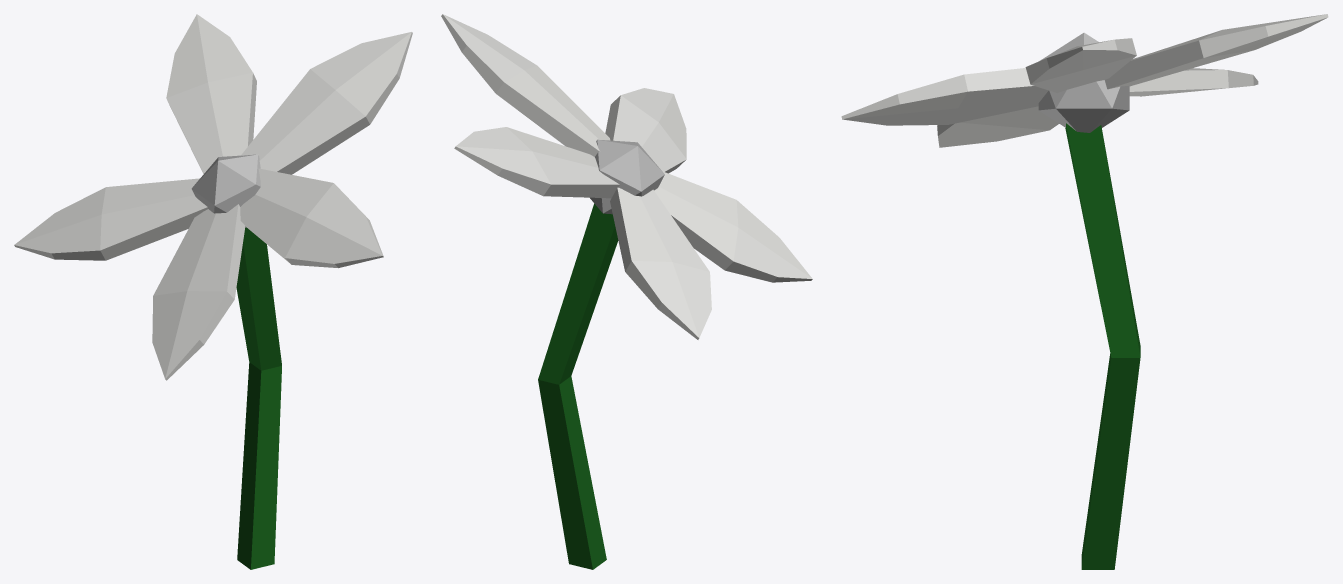
File: Flower_1_White.fbx
3 renders of one model, left to right at view 1: azimuth 30°, elevation 25°; view 2: azimuth 150°, elevation 25°; view 3: azimuth 270°, elevation 25°, orthographic. The views are drawn at different scales.
Parts seen in each view (by area): view 1: Flower_1_White_Part_3, Flower_1_White_Part_1, Flower_1_White_Part_2; view 2: Flower_1_White_Part_3, Flower_1_White_Part_1, Flower_1_White_Part_2; view 3: Flower_1_White_Part_3, Flower_1_White_Part_1, Flower_1_White_Part_2.
Part boxes in pixels (<box>): Flower_1_White_Part_3: <box>14,14,412,380</box>; Flower_1_White_Part_1: <box>236,227,281,569</box>; Flower_1_White_Part_2: <box>191,154,260,227</box>; Flower_1_White_Part_3: <box>441,14,812,339</box>; Flower_1_White_Part_1: <box>538,203,618,569</box>; Flower_1_White_Part_2: <box>590,139,664,214</box>; Flower_1_White_Part_3: <box>841,14,1328,147</box>; Flower_1_White_Part_1: <box>1065,123,1140,569</box>; Flower_1_White_Part_2: <box>1038,32,1129,132</box>.
Bounding box in the file's own units: 25.92 × 37.81 × 27.6.
